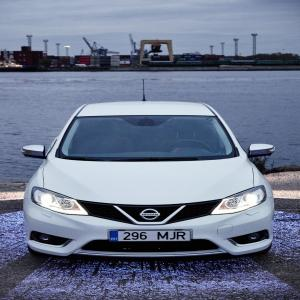Vehicle-registration-plate: (109, 231, 193, 243)
